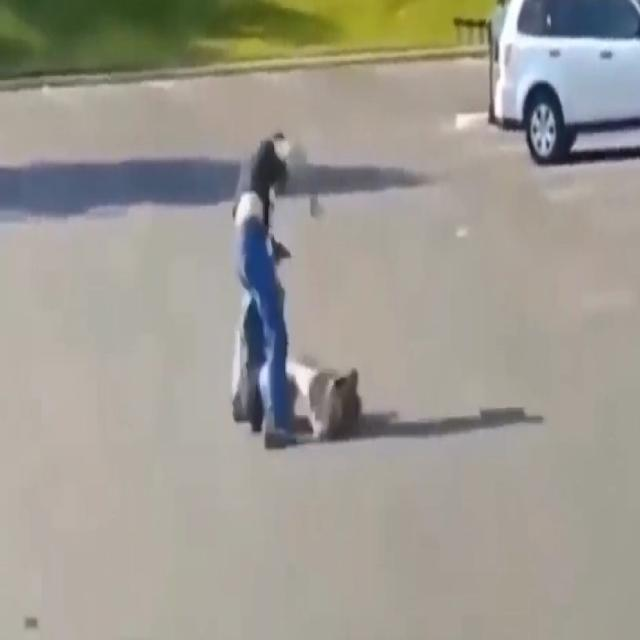fight: (226, 115, 376, 457)
